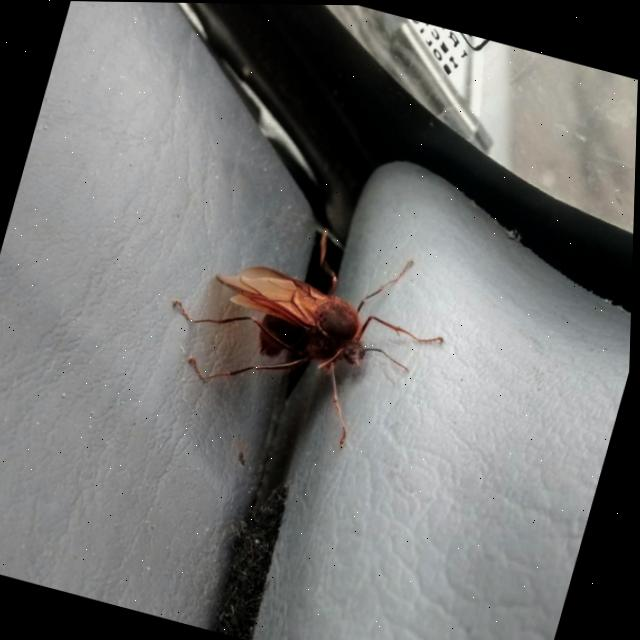Alive-Male-Alate: (145, 194, 468, 467)
